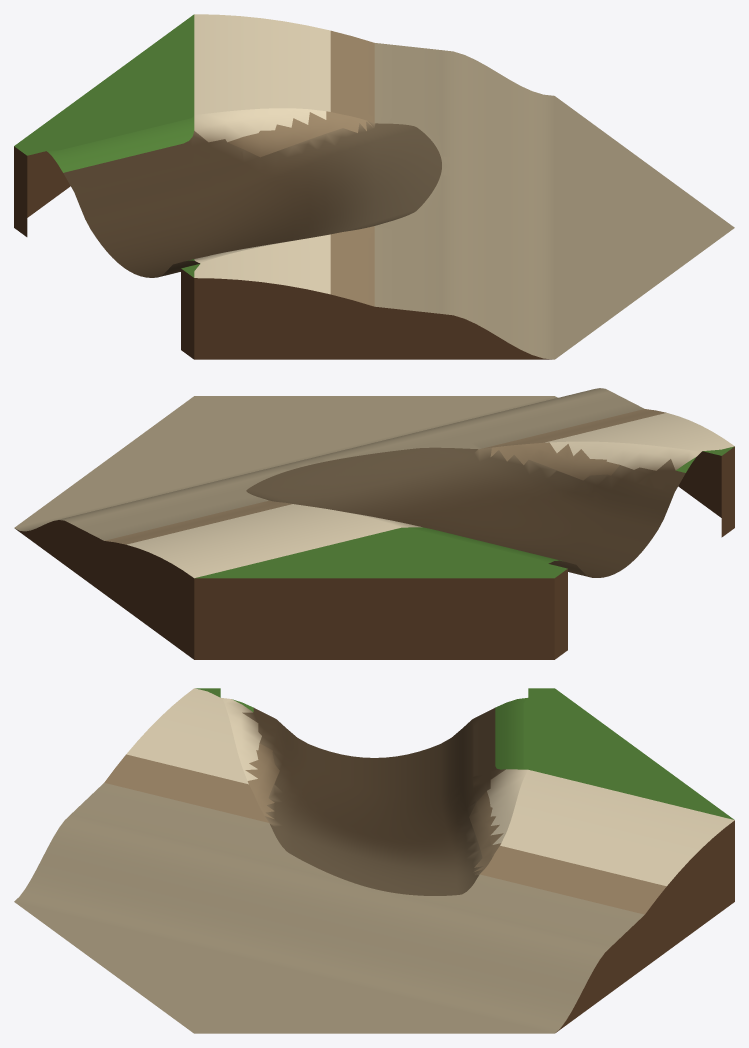
Rendered from river_mouth_base.glb.
The picture shows the model from 3 angles, top to bottom: view 1: azimuth 30°, elevation 25°; view 2: azimuth 150°, elevation 25°; view 3: azimuth 270°, elevation 25°; orthographic projection.
Parts seen in each view (by area): view 1: river_mouth_base_lod0; view 2: river_mouth_base_lod0; view 3: river_mouth_base_lod0.
Part boxes in pixels (x1,y1,x2,y2): river_mouth_base_lod0: [14, 14, 734, 359]; river_mouth_base_lod0: [14, 388, 734, 659]; river_mouth_base_lod0: [14, 688, 734, 1033].
Size of what is drawn, in the model's own units: 27.71 by 4 by 32.
